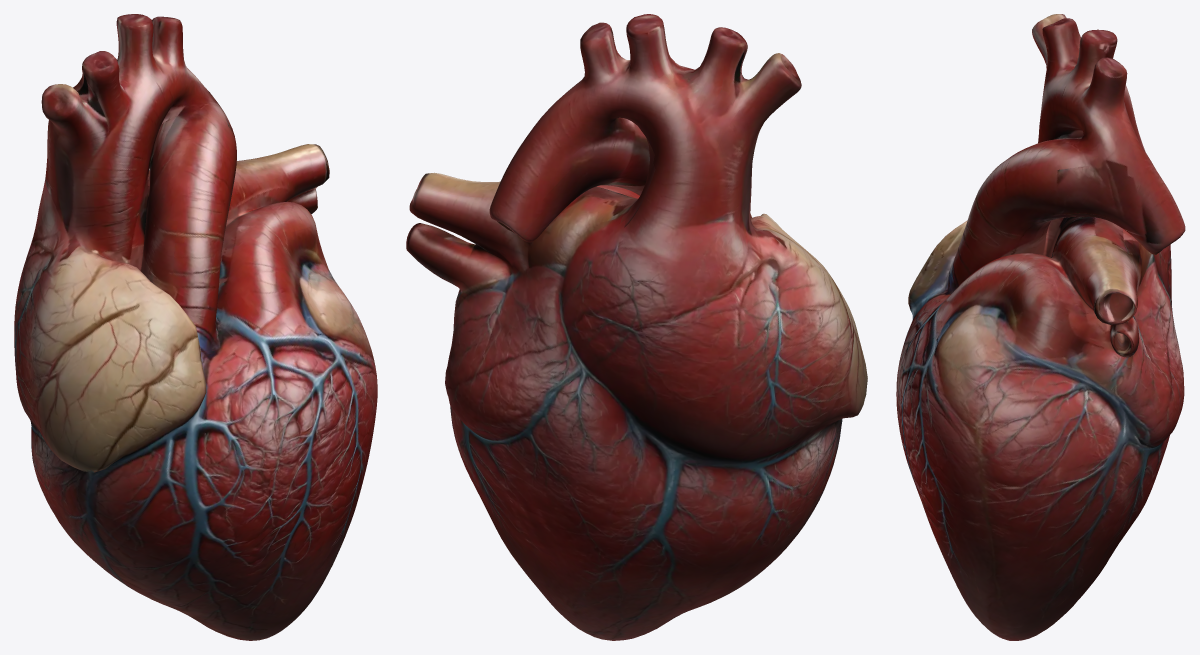
The picture shows the model from 3 angles, left to right: view 1: azimuth 30°, elevation 25°; view 2: azimuth 150°, elevation 25°; view 3: azimuth 270°, elevation 25°; orthographic projection. The views are drawn at different scales.
Visible parts, largest first — view 1: Stylized Human Heart; view 2: Stylized Human Heart; view 3: Stylized Human Heart.
Part boxes in pixels (x1,y1,x2,y2): Stylized Human Heart: [14, 14, 377, 640]; Stylized Human Heart: [406, 14, 867, 640]; Stylized Human Heart: [896, 14, 1185, 640].
Size of the model in its own units: 0.047 by 0.0805 by 0.037.
1 material, 1 textured.
